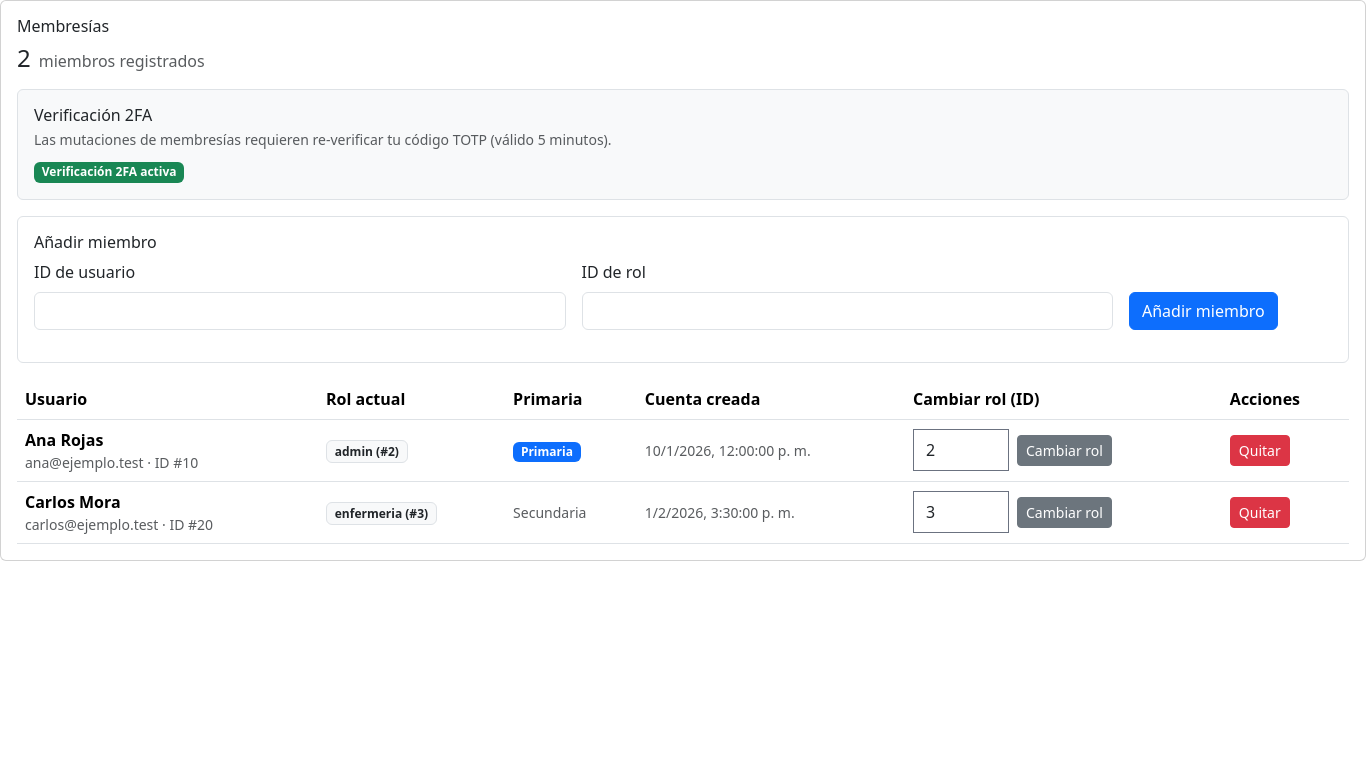
Test: PlatformOrganizationMembersSection › muestra errores de la API en un Alert cuando falla una operación
Expected: the text "Ana Rojas" is shown, [25,429,103,451]
In the field labelled "ID de usuario": (300, 311) [34,292,566,330], type "10"
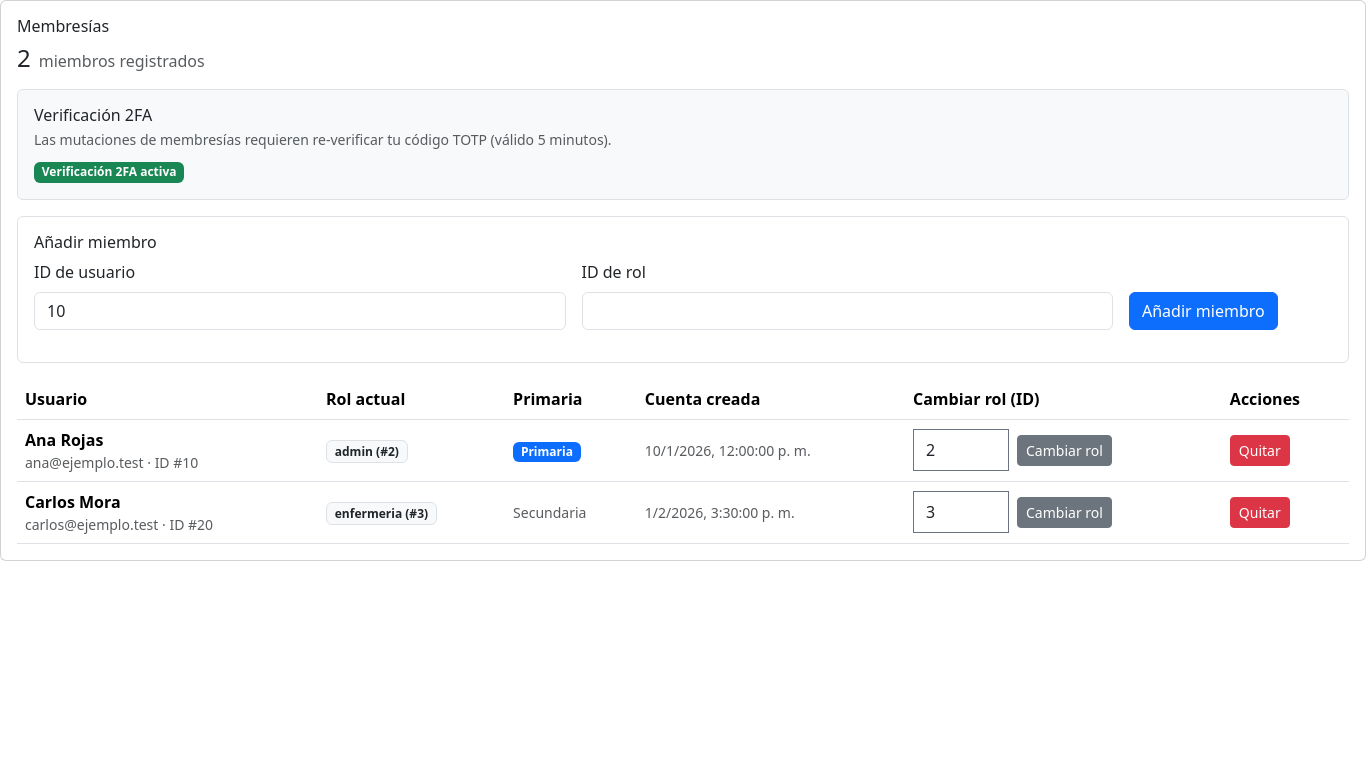
In the field labelled "ID de rol": (847, 311) [582,292,1113,330], type "2"
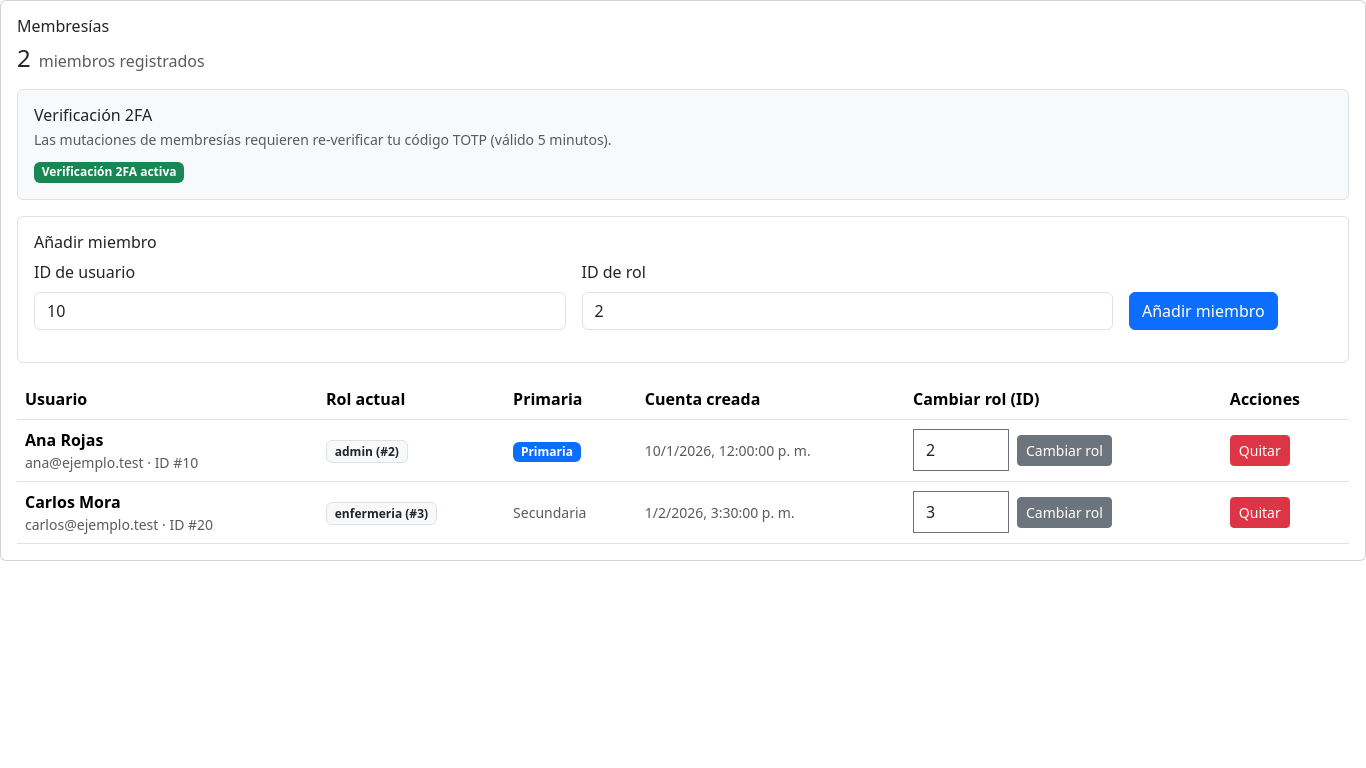
Click the button "Añadir miembro": (1203, 311) [1129,292,1278,330]
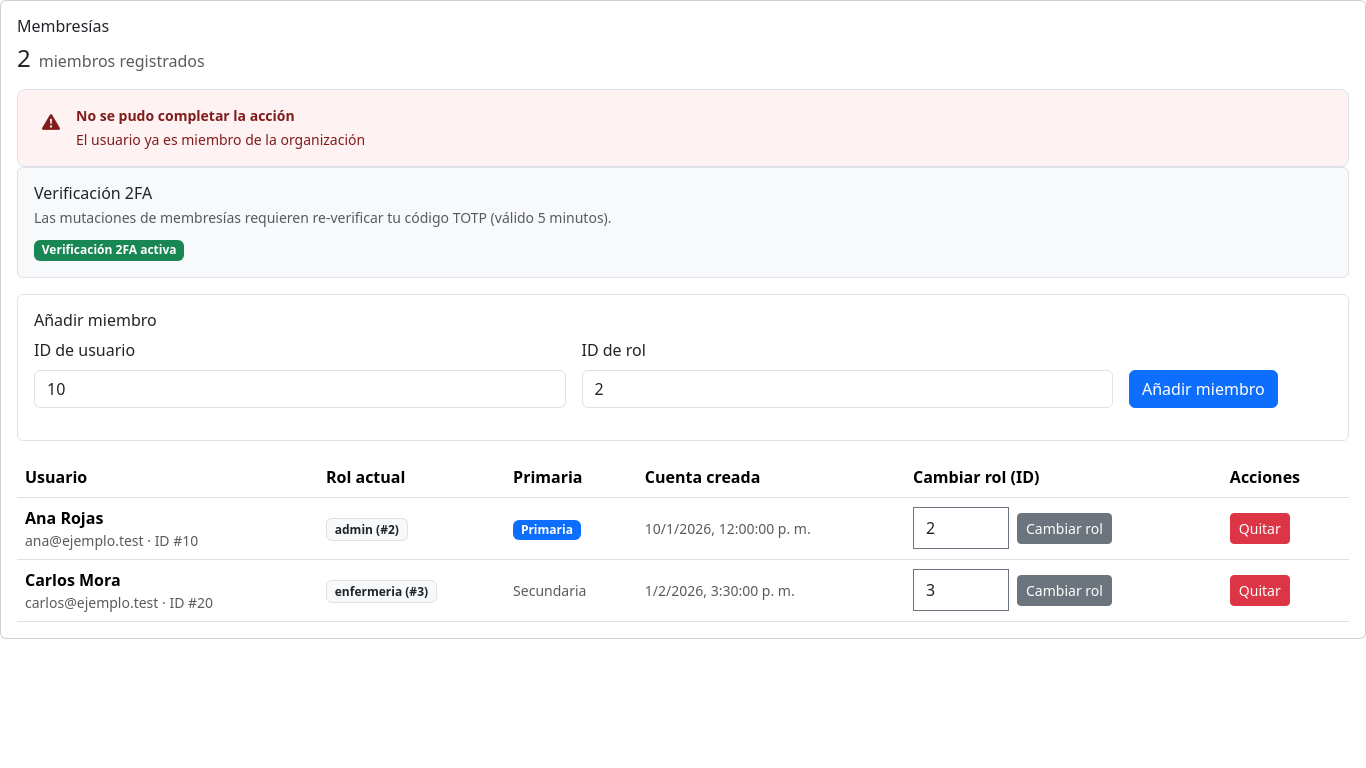
Now the text "El usuario ya es miembro de la organización" is shown, box [76,130,365,149]
